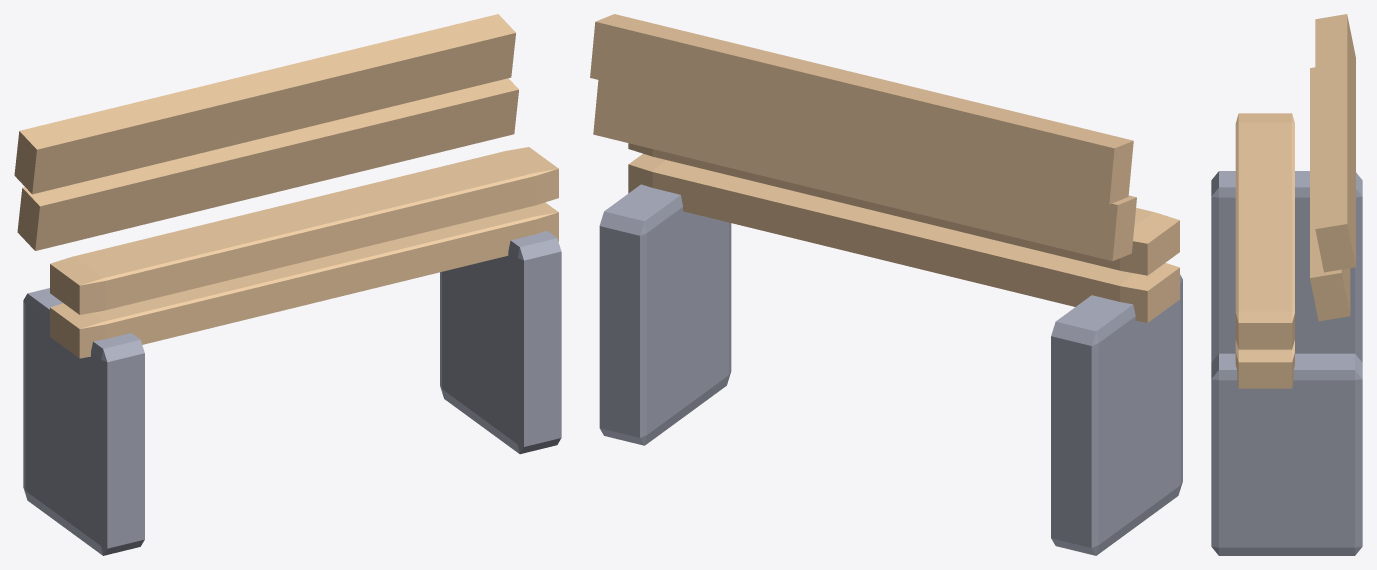
File: CF_Bench.fbx
3 renders of one model, left to right at view 1: azimuth 30°, elevation 25°; view 2: azimuth 150°, elevation 25°; view 3: azimuth 270°, elevation 25°, orthographic. The views are drawn at different scales.
Visible parts, largest first — view 1: CF_Bench_Wood, CF_Bench_Leg; view 2: CF_Bench_Wood, CF_Bench_Leg; view 3: CF_Bench_Leg, CF_Bench_Wood.
Boxes of the visible parts, x1,y1,x2,y2 form: CF_Bench_Wood: (14,14,558,358); CF_Bench_Leg: (23,231,561,555); CF_Bench_Wood: (590,14,1179,322); CF_Bench_Leg: (599,184,1182,555); CF_Bench_Leg: (1211,171,1362,555); CF_Bench_Wood: (1235,14,1355,388).
Size of the model in its own units: 4.6 by 3.45 by 1.4.
